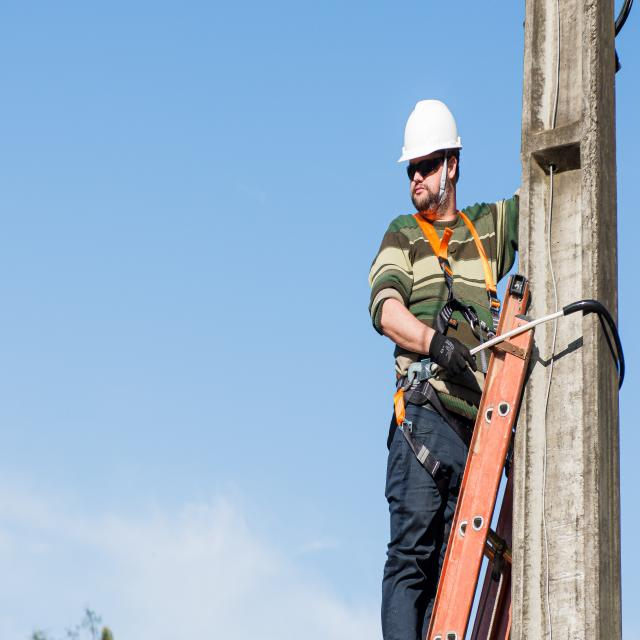capacete: (396, 98, 464, 164)
corda de vida: (386, 207, 504, 503)
luva: (427, 326, 479, 384)
